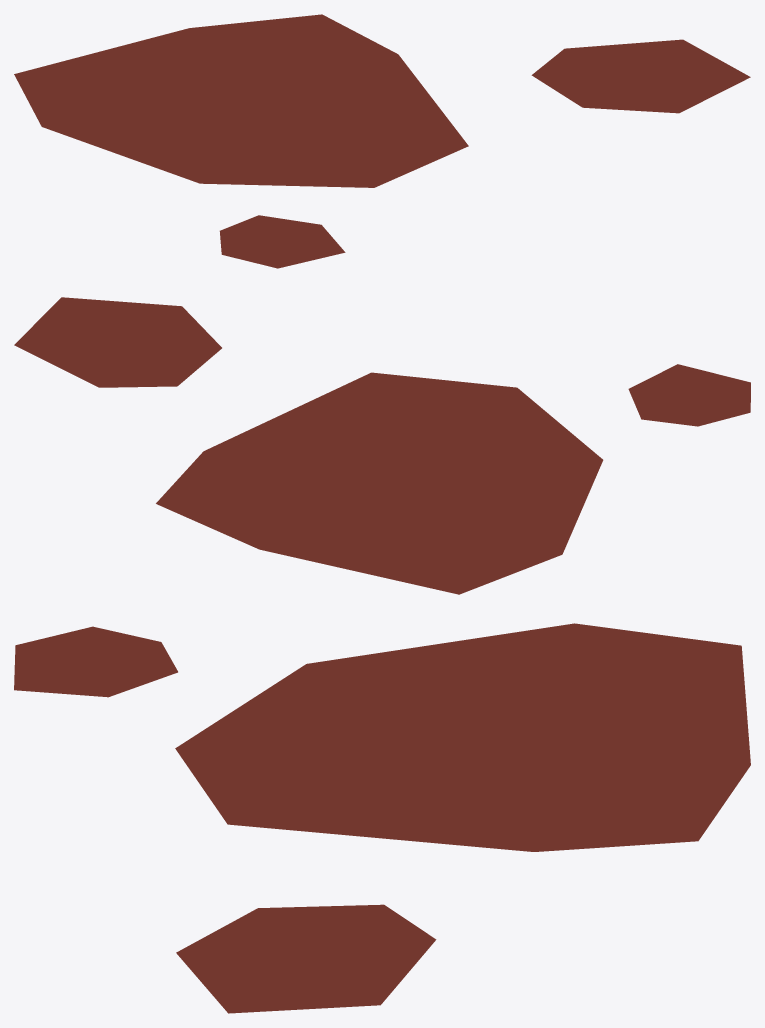
The model's file is SD_Prop_BloodSplat_02.fbx.
3 views of the same model, one above another, from view 1: azimuth 30°, elevation 25°; view 2: azimuth 150°, elevation 25°; view 3: azimuth 270°, elevation 25° (orthographic). The views are drawn at different scales.
Visible parts, largest first — view 1: SD_Prop_BloodSplat_02; view 2: SD_Prop_BloodSplat_02; view 3: SD_Prop_BloodSplat_02.
Part boxes in pixels (left/top/right/bottom): SD_Prop_BloodSplat_02: left=14, top=14, right=750, bottom=268; SD_Prop_BloodSplat_02: left=14, top=297, right=750, bottom=594; SD_Prop_BloodSplat_02: left=14, top=623, right=750, bottom=1013.
Bounding box in the file's own units: 0.4712 × 0.00019 × 0.3764.
